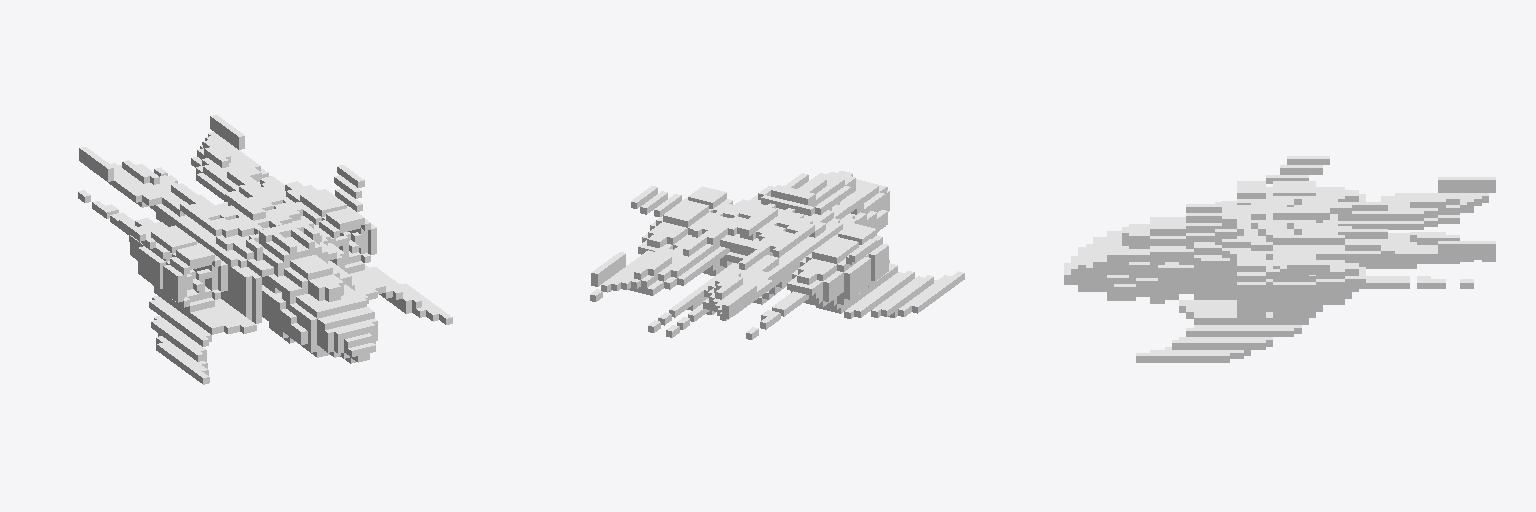
File: Transtellar.obj
3 views of the same model, side by side, from view 1: azimuth 30°, elevation 25°; view 2: azimuth 150°, elevation 25°; view 3: azimuth 270°, elevation 25° (orthographic).
Visible parts, largest first — view 1: object 1; view 2: object 1; view 3: object 1.
Part boxes in pixels (bbox=[...]): object 1: bbox=[78, 115, 452, 384]; object 1: bbox=[590, 171, 964, 339]; object 1: bbox=[1064, 156, 1495, 362].
Size of the model in its own units: 4 by 1.4 by 6.